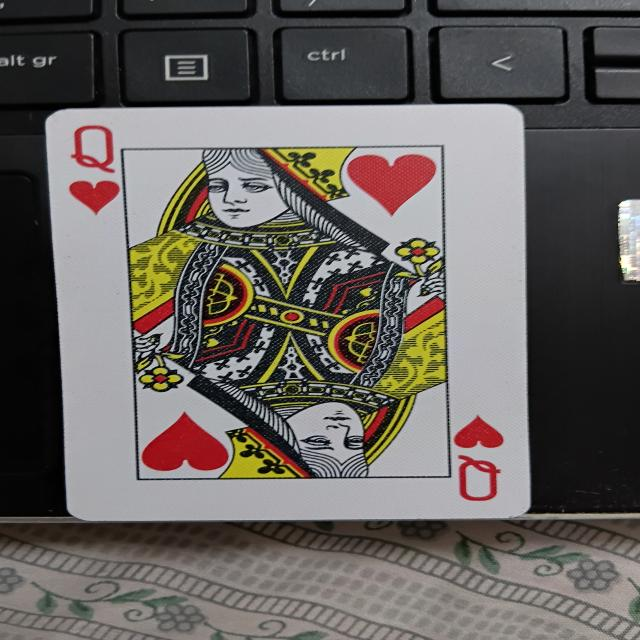QH: (42, 105, 530, 522)
